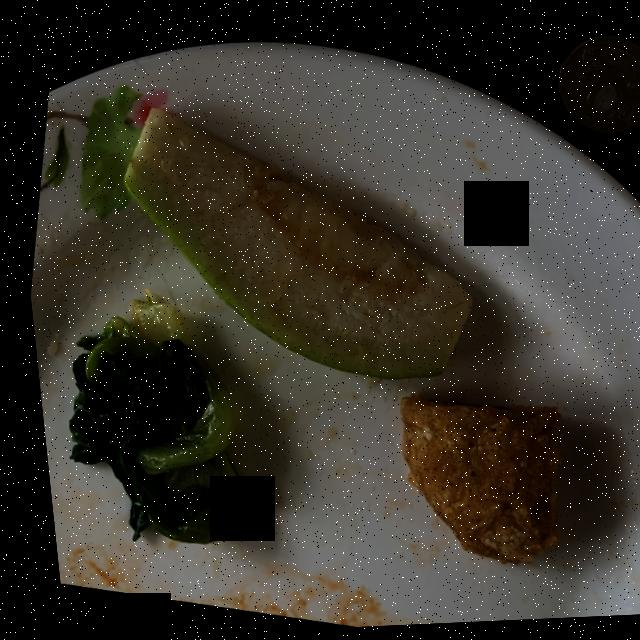coin: (555, 40, 640, 141)
fried potato: (390, 399, 551, 568)
guava -sliced-: (119, 110, 464, 383)
mustard greens: (59, 300, 240, 545)
